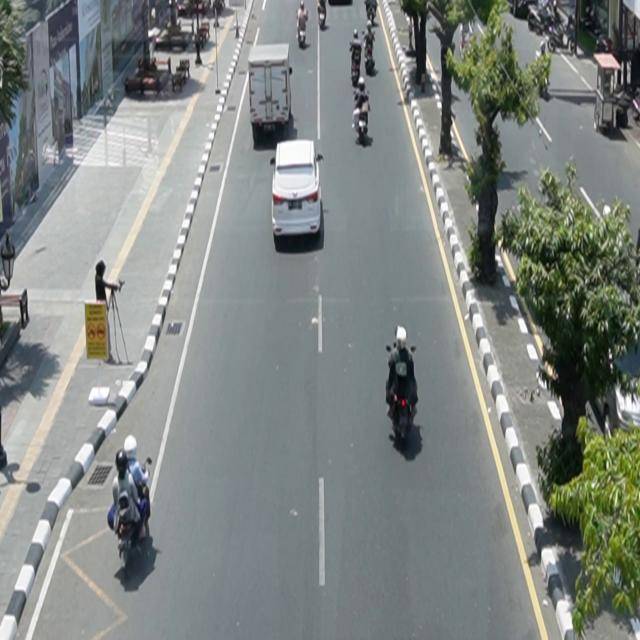car: (271, 140, 324, 240)
truck: (249, 43, 294, 146)
